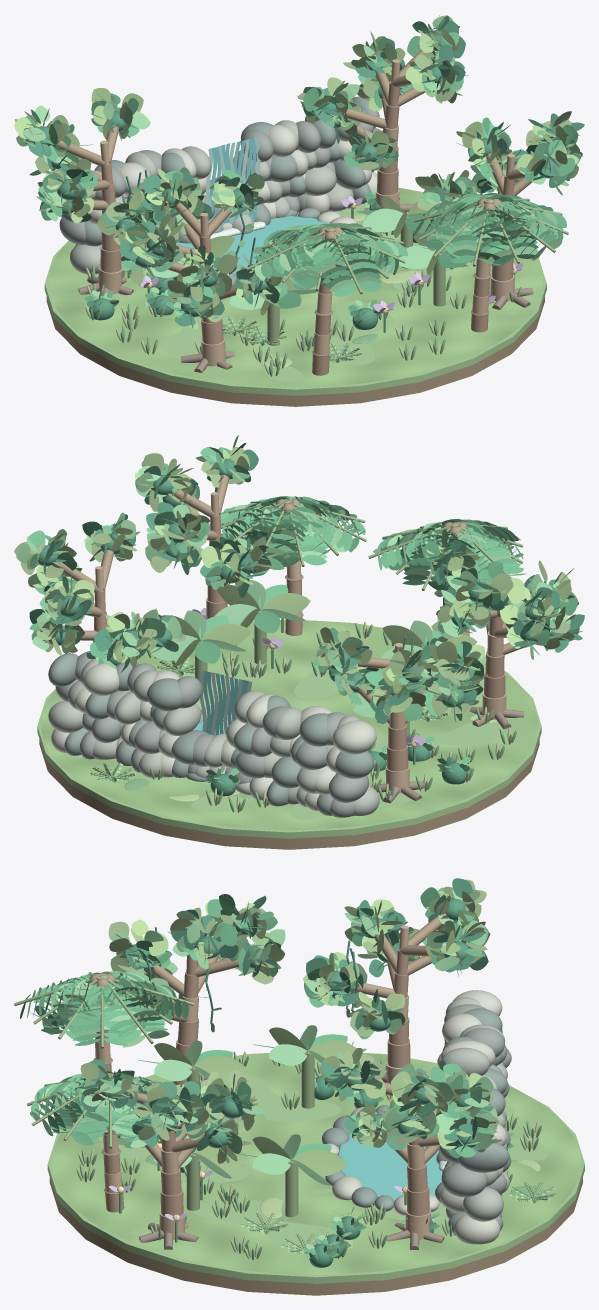
Rendered from jungle_waterfall_hq.glb.
The picture shows the model from 3 angles, top to bottom: view 1: azimuth 30°, elevation 25°; view 2: azimuth 150°, elevation 25°; view 3: azimuth 270°, elevation 25°; orthographic projection. The views are drawn at different scales.
Visible parts, largest first — view 1: Undulating natural grass terrain, vertex colors, Soft green forest floor, Layered weathered cliff stone (×10), Brown earth foundation, Transparent-looking surface of lagoon, Broad curved banana foliage (×2), Banana plant trunk, Curving textured mahogany trunk; view 2: Undulating natural grass terrain, vertex colors, Layered weathered cliff stone (×21), Soft green forest floor, Brown earth foundation, Broad curved banana foliage (×3); view 3: Undulating natural grass terrain, vertex colors, Soft green forest floor, Layered weathered cliff stone (×8), Brown earth foundation, Broad curved banana foliage (×7), Transparent-looking surface of lagoon, Banana plant trunk (×3), Curving textured mahogany trunk (×2), Mossy rounded river rock.
Part boxes in pixels (x1=…): Undulating natural grass terrain, vertex colors: x1=48, y1=187, x2=542, y2=386; Soft green forest floor: x1=44, y1=188, x2=546, y2=395; Layered weathered cliff stone (×10): x1=59, y1=121, x2=365, y2=274; Brown earth foundation: x1=46, y1=296, x2=544, y2=406; Transparent-looking surface of lagoon: x1=176, y1=215, x2=329, y2=274; Broad curved banana foliage (×2): x1=362, y1=208, x2=435, y2=269; Banana plant trunk: x1=433, y1=253, x2=445, y2=306; Curving textured mahogany trunk: x1=377, y1=167, x2=398, y2=195; Undulating natural grass terrain, vertex colors: x1=41, y1=620, x2=537, y2=829; Layered weathered cliff stone (×21): x1=48, y1=653, x2=379, y2=815; Soft green forest floor: x1=37, y1=619, x2=541, y2=838; Brown earth foundation: x1=39, y1=739, x2=539, y2=849; Broad curved banana foliage (×3): x1=201, y1=593, x2=423, y2=648; Undulating natural grass terrain, vertex colors: x1=52, y1=1053, x2=580, y2=1274; Soft green forest floor: x1=47, y1=1053, x2=584, y2=1283; Layered weathered cliff stone (×8): x1=441, y1=990, x2=509, y2=1244; Brown earth foundation: x1=49, y1=1177, x2=582, y2=1295; Broad curved banana foliage (×7): x1=154, y1=1040, x2=356, y2=1176; Transparent-looking surface of lagoon: x1=338, y1=1134, x2=442, y2=1200; Banana plant trunk (×3): x1=186, y1=1048, x2=314, y2=1217; Curving textured mahogany trunk (×2): x1=387, y1=1039, x2=429, y2=1215; Mossy rounded river rock: x1=332, y1=1176, x2=362, y2=1200.
Size of the model in its own units: 13.37 by 5.79 by 13.92.
